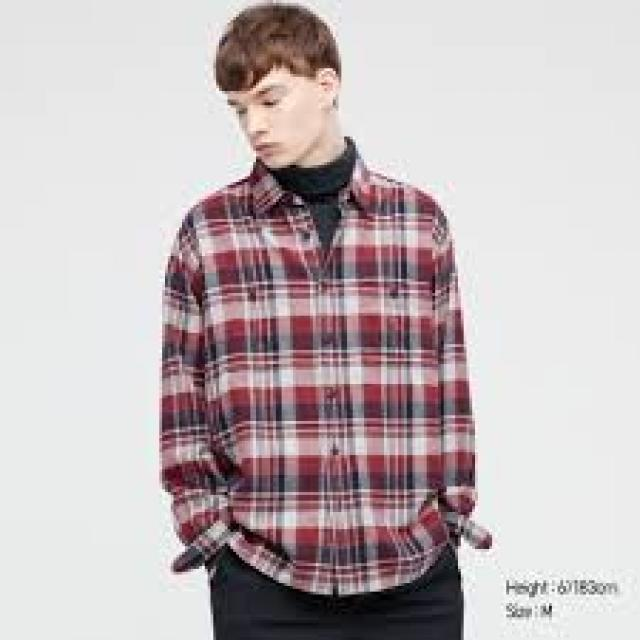plaid: (141, 145, 502, 591)
